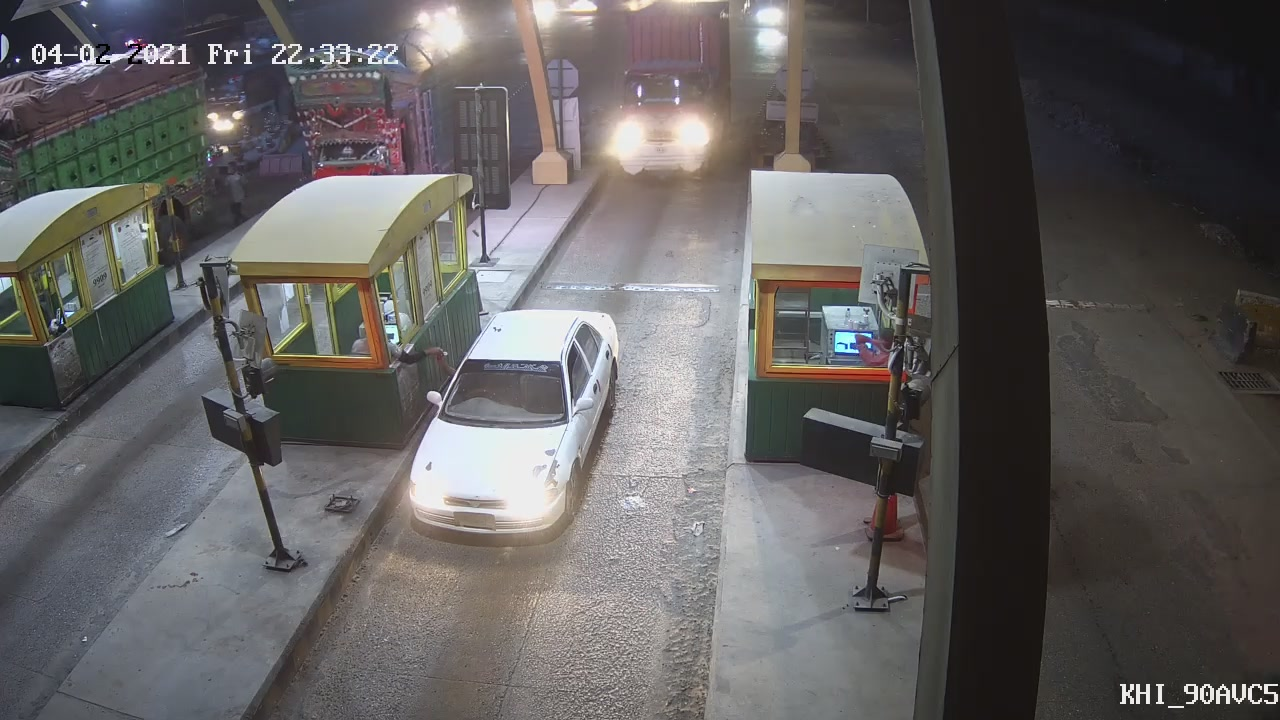F1: (407, 306, 625, 538)
